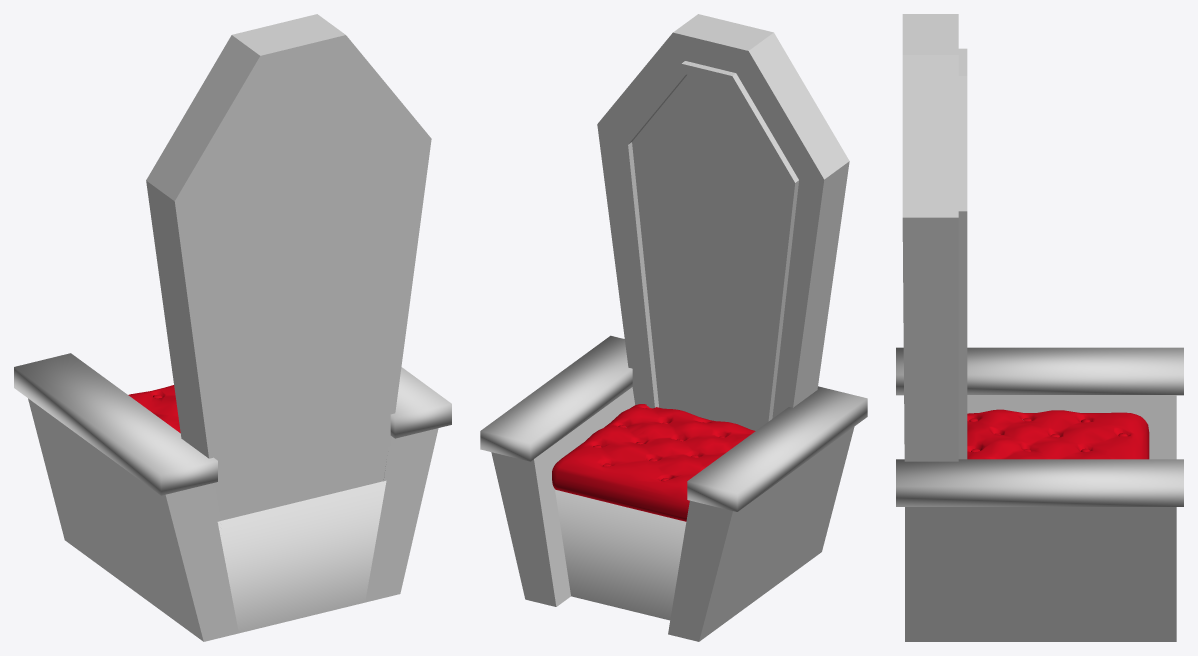
File: SM_Throne_00.fbx
3 renders of one model, left to right at view 1: azimuth 30°, elevation 25°; view 2: azimuth 150°, elevation 25°; view 3: azimuth 270°, elevation 25°, orthographic. The views are drawn at different scales.
Parts seen in each view (by area): view 1: Back01_low, Handle02_low, Seat01_low, Handle01_low, Seat02_low; view 2: Back01_low, Handle02_low, Handle01_low, Seat02_low, Seat01_low; view 3: Handle02_low, Back01_low, Handle01_low, Seat02_low.
Part boxes in pixels (left/top/right/bottom): Back01_low: left=146, top=14, right=431, bottom=520; Handle02_low: left=28, top=398, right=438, bottom=641; Seat01_low: left=217, top=480, right=386, bottom=633; Handle01_low: left=14, top=353, right=451, bottom=495; Seat02_low: left=128, top=385, right=180, bottom=432; Back01_low: left=597, top=14, right=849, bottom=430; Handle02_low: left=491, top=387, right=854, bottom=641; Handle01_low: left=480, top=335, right=867, bottom=511; Seat02_low: left=552, top=404, right=755, bottom=521; Seat01_low: left=555, top=489, right=686, bottom=620; Handle02_low: left=905, top=395, right=1176, bottom=641; Back01_low: left=902, top=14, right=967, bottom=461; Handle01_low: left=896, top=347, right=1183, bottom=506; Seat02_low: left=967, top=409, right=1149, bottom=459.
Size of the model in its own units: 1.53 by 2.89 by 1.35.
